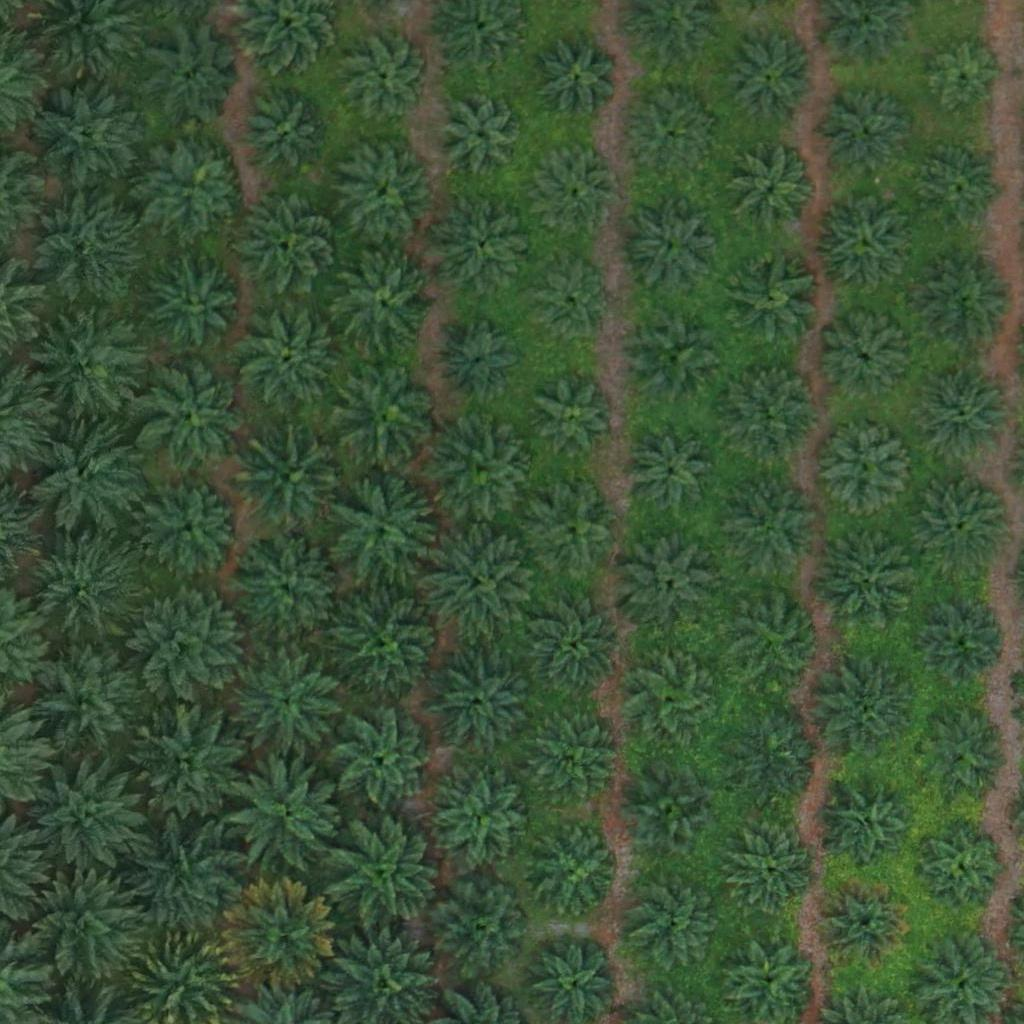Kelapa_Sawit: (32, 77, 145, 190), (28, 187, 141, 300), (33, 307, 146, 420), (30, 421, 143, 534), (24, 532, 137, 645), (32, 647, 145, 760), (132, 587, 245, 700), (135, 701, 248, 814), (134, 819, 247, 932), (325, 474, 438, 587), (423, 526, 536, 639), (426, 646, 539, 759), (223, 880, 336, 993), (34, 758, 146, 871), (137, 361, 249, 474), (232, 300, 344, 413), (239, 427, 351, 540), (232, 533, 344, 646), (232, 652, 344, 765), (229, 758, 341, 871), (332, 592, 444, 705), (333, 816, 445, 929), (23, 873, 135, 986), (435, 194, 535, 295), (334, 141, 434, 242), (334, 258, 434, 359), (238, 195, 338, 296), (143, 28, 243, 129), (144, 138, 244, 239), (141, 252, 241, 353), (143, 478, 243, 579), (333, 712, 433, 813), (525, 707, 625, 808), (625, 306, 725, 407), (720, 359, 820, 460), (725, 480, 825, 581), (816, 419, 916, 520), (815, 530, 915, 631), (816, 663, 916, 764), (918, 364, 1018, 465), (911, 475, 1011, 576), (626, 870, 726, 971), (432, 878, 532, 979), (914, 253, 1014, 353), (814, 192, 914, 292), (720, 249, 820, 349), (620, 196, 720, 296), (335, 362, 435, 462), (433, 422, 533, 522), (521, 480, 621, 580), (619, 528, 719, 628), (728, 589, 828, 689), (727, 709, 827, 809), (822, 315, 910, 404), (919, 145, 1007, 233), (820, 89, 908, 177), (242, 90, 330, 178), (627, 429, 715, 517), (626, 651, 714, 739), (629, 770, 717, 858), (916, 599, 1004, 687), (729, 826, 817, 914), (725, 37, 812, 125), (728, 148, 815, 236), (628, 97, 715, 185), (440, 89, 527, 177), (342, 33, 429, 121), (438, 776, 525, 864), (533, 600, 620, 688), (920, 711, 1007, 799), (825, 783, 912, 871), (917, 822, 1004, 910), (821, 880, 908, 968), (529, 829, 616, 917), (542, 43, 617, 119), (540, 154, 615, 230), (443, 324, 518, 400), (537, 377, 612, 453), (928, 43, 1003, 118), (532, 269, 607, 344)
